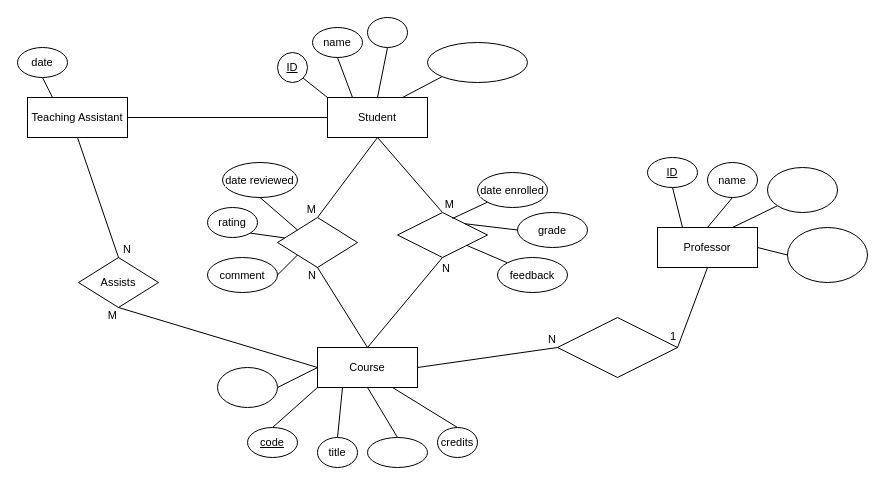
Some shapes in this 885 by 485 pixel diagram are drawn without their labels. The box of each missing label's shape, as (x1, y1, x2, y2) in pixels:
academic title: (786, 226, 868, 282)
department: (766, 166, 838, 212)
description: (366, 436, 428, 468)
email: (366, 16, 408, 48)
Enroll: (396, 212, 488, 258)
registration date: (426, 42, 528, 82)
Review: (276, 216, 358, 268)
semester: (216, 366, 278, 408)
Teaches: (556, 316, 678, 378)
